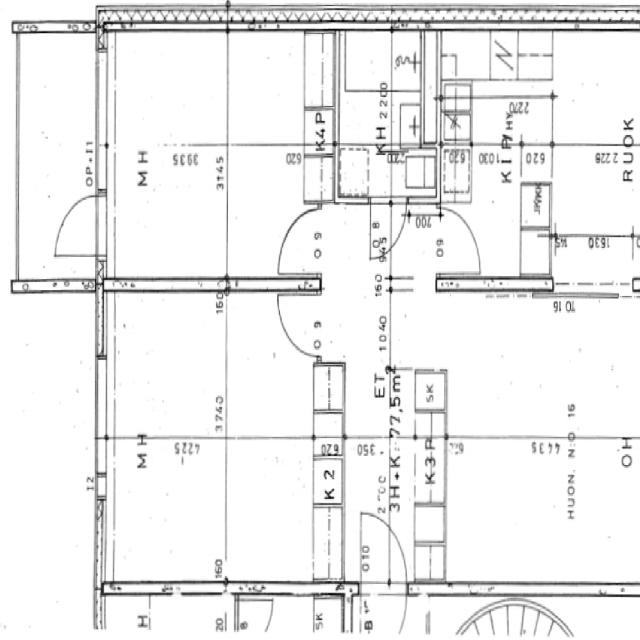door: (361, 510, 407, 595), (437, 208, 482, 274), (58, 196, 107, 255), (276, 210, 321, 274), (277, 294, 321, 356), (370, 197, 407, 260)
